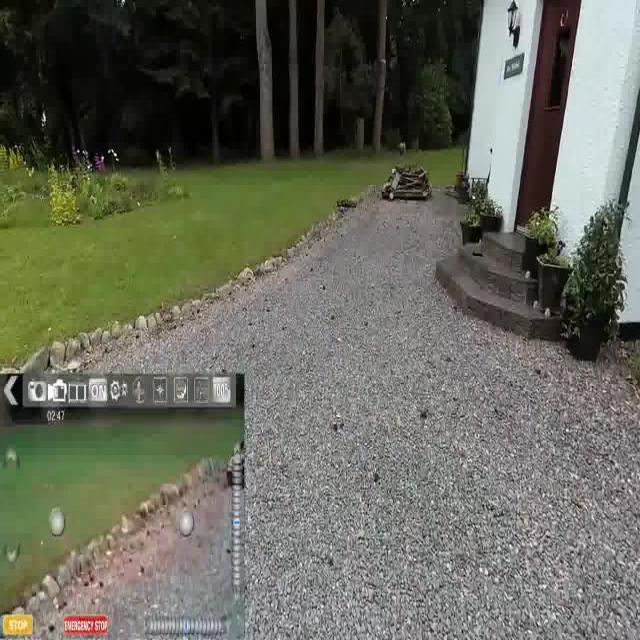drones: (332, 190, 361, 223)
